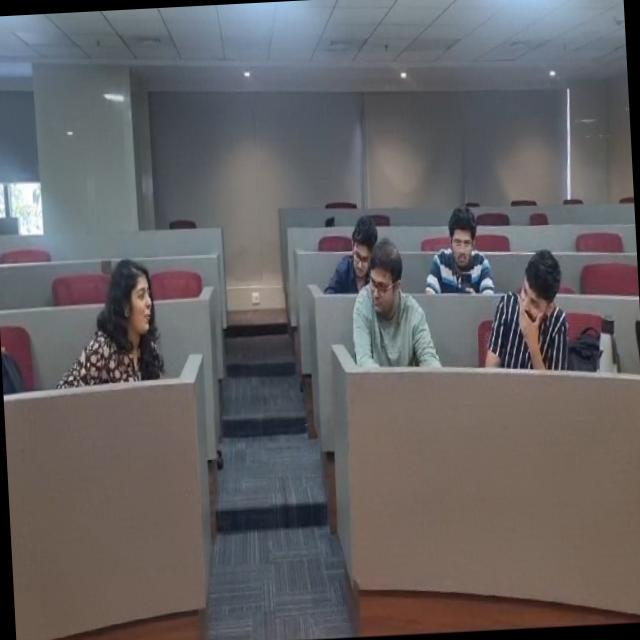cheating: (486, 245, 574, 370), (404, 190, 498, 302), (82, 255, 172, 363), (353, 245, 427, 364)
non-cheating: (338, 218, 388, 287)
